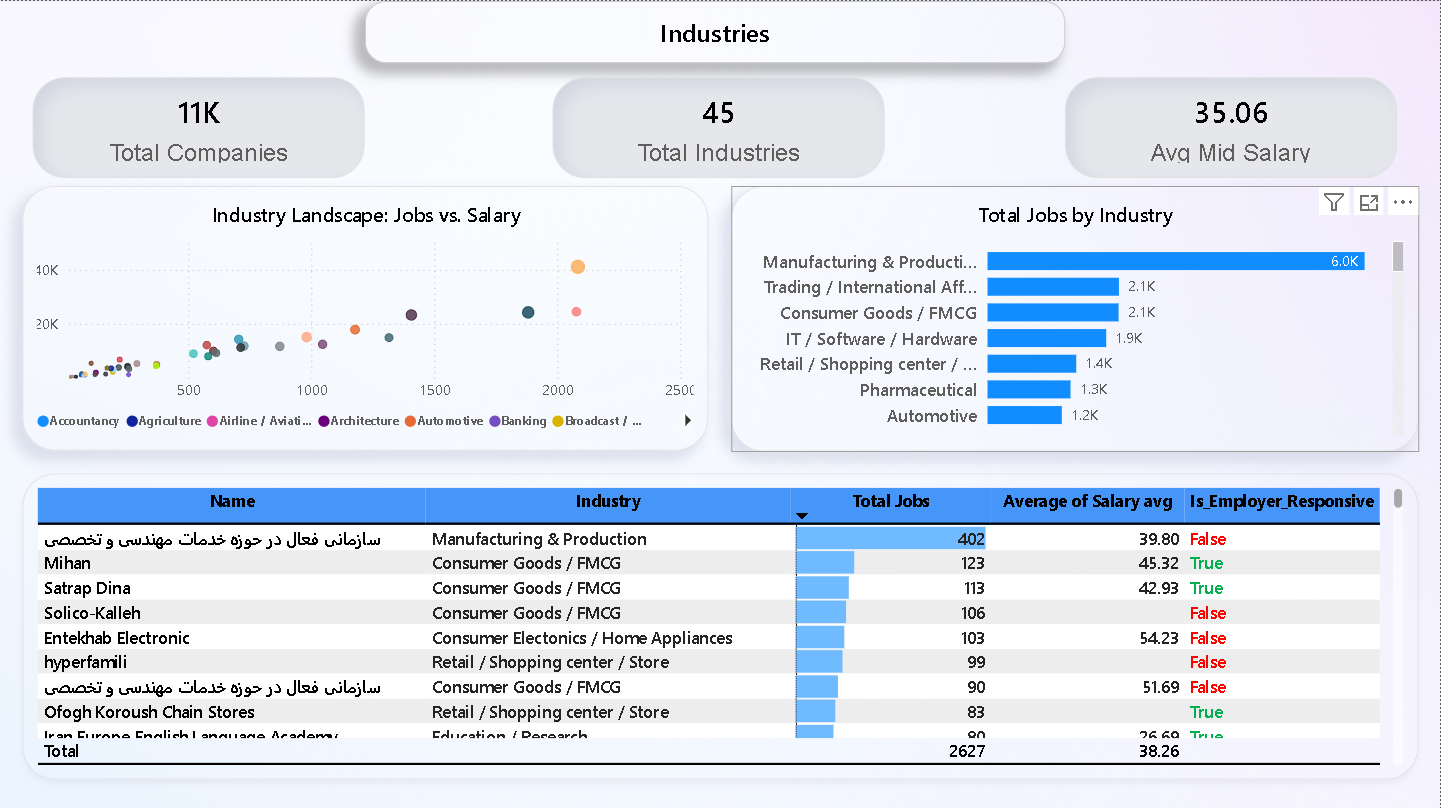

The page's visual inventory and layout, read from the dashboard file:
{"tool":"powerbi","page":{"name":"5 ) Industries","canvas":[1280,720],"ordinal":4},"visuals":[{"type":"scatterChart","title":"Industry Landscape: Jobs vs. Salary","fields":{"X":["JobPost.Total Jobs"],"Y":["Sum(JobPost.Salary avg)"],"Series":["JobPost.Industry"],"Size":["JobPost.Total Companies"]},"box":[20.1,164.7,609.8,235.1],"z":0},{"type":"barChart","fields":{"Category":["JobPost.Industry"],"Y":["JobPost.Total Jobs"]},"box":[650.1,164.7,611.1,236.4],"z":1000},{"type":"tableEx","fields":{"Values":["Company.Name","JobPost.Industry","JobPost.Total Jobs","Avg(JobPost.Salary avg)","Company.Is_Employer_Responsive"]},"box":[20.4,419.5,1240.4,272.1],"z":3000},{"type":"textbox","box":[324.5,0,622.5,55.5],"z":4000},{"type":"card","fields":{"Values":["JobPost.Total Companies"]},"box":[29,67.6,295.6,89.3],"z":5000},{"type":"card","fields":{"Values":["JobPost.Total Industries"]},"box":[491,67.6,295.6,89.3],"z":6000},{"type":"card","fields":{"Values":["JobPost.Avg Mid Salary"]},"box":[947.1,67.6,295.6,89.3],"z":7000}]}

Visuals, with their boxes in screenshot pixels (x1, y1, x2, y2), scaled from the page's 1280x720 canvas onto the 1441x808 screenshot:
"Industry Landscape: Jobs vs. Salary" scatterChart: [23, 185, 709, 449]
barChart - JobPost.Industry x JobPost.Total Jobs: [732, 185, 1420, 450]
tableEx - Company.Name x JobPost.Industry: [23, 471, 1419, 776]
textbox: [365, 0, 1066, 62]
card - JobPost.Total Companies: [33, 76, 365, 176]
card - JobPost.Total Industries: [553, 76, 886, 176]
card - JobPost.Avg Mid Salary: [1066, 76, 1399, 176]
